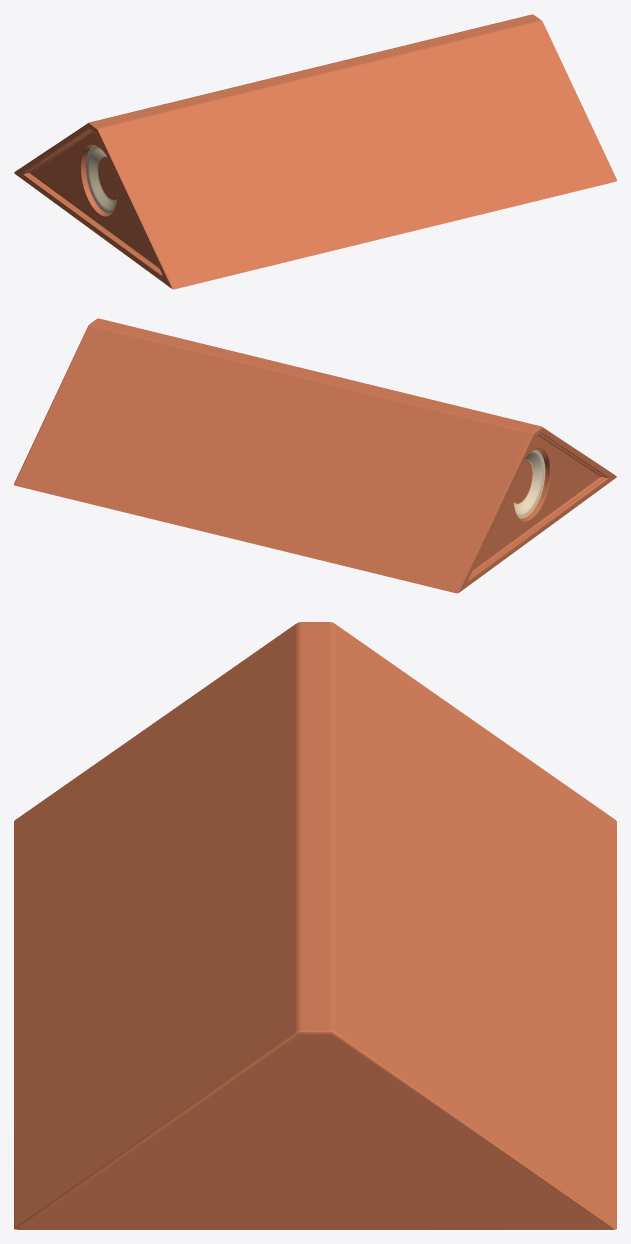
Rendered from Top House2.fbx.
The picture shows the model from 3 angles, top to bottom: view 1: azimuth 30°, elevation 25°; view 2: azimuth 150°, elevation 25°; view 3: azimuth 270°, elevation 25°; orthographic projection. The views are drawn at different scales.
Parts seen in each view (by area): view 1: Plane.002; view 2: Plane.002; view 3: Plane.002.
Boxes of the visible parts, box(x1,y1,x2,y2) form: Plane.002: box(14, 14, 616, 289); Plane.002: box(14, 318, 616, 593); Plane.002: box(14, 622, 616, 1229).
Bounding box in the file's own units: 627 × 142 × 389.
